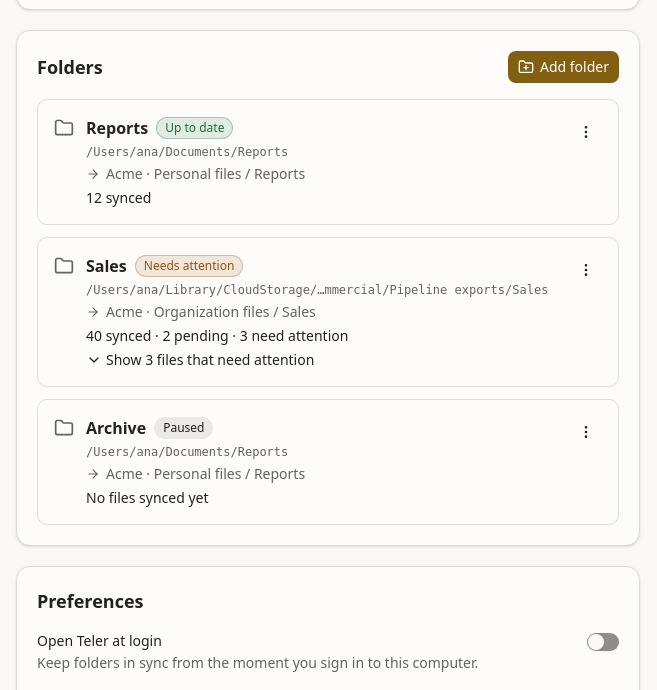
Test: folders › expands the files that need attention with localized statuses
The image size is (657, 690).
(page scrolled)
Click the button "Show 3 files that need attention" at (200, 360), box [86,350,314,370]
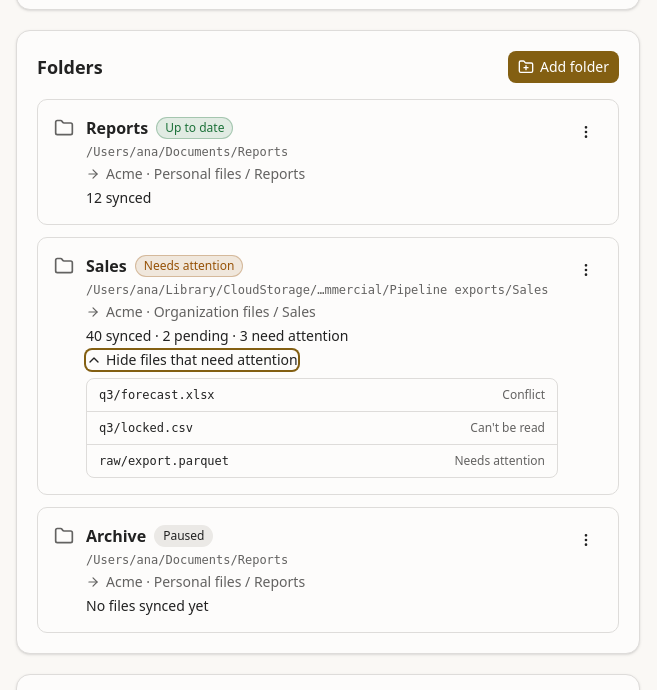
Result: the button named "Show 3 files that need attention" is expanded at [86,350,298,370]
Result: the text "Conflict" is shown at [502,387,545,403]
Result: the text "Can't be read" is shown at [470,420,545,436]
